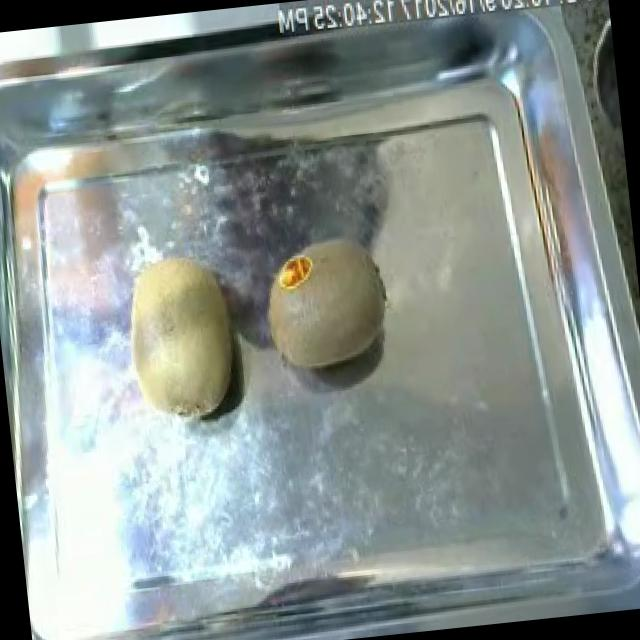Fruit: (112, 242, 254, 434), (249, 224, 400, 383)
